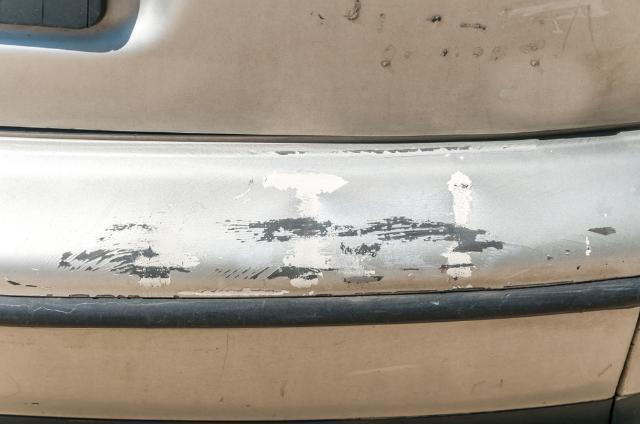scratch: (45, 164, 629, 296)
